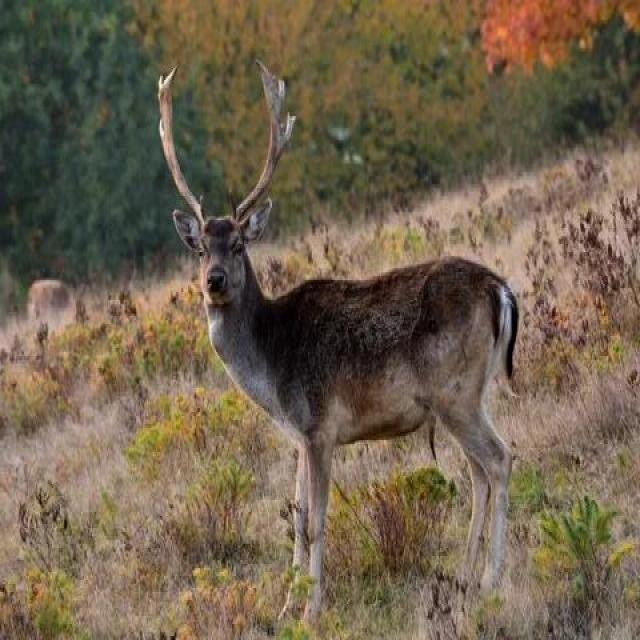deer: (160, 176, 589, 491)
